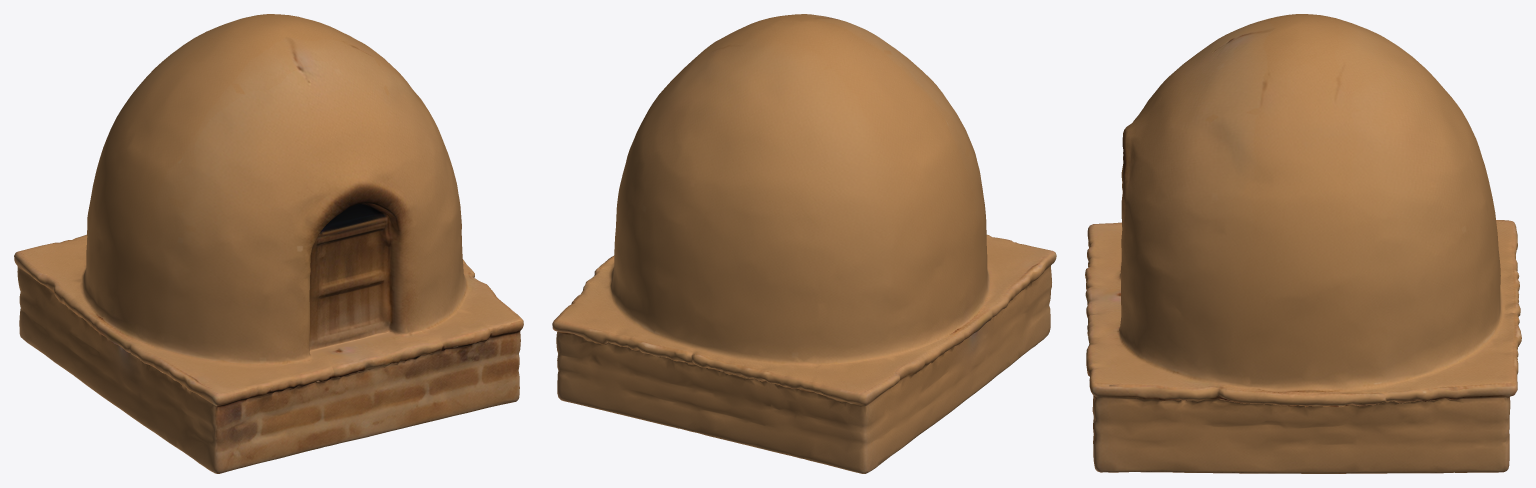
The model's file is horno.glb.
The picture shows the model from 3 angles, left to right: view 1: azimuth 30°, elevation 25°; view 2: azimuth 150°, elevation 25°; view 3: azimuth 270°, elevation 25°; orthographic projection. The views are drawn at different scales.
Visible parts, largest first — view 1: temp_mesh.ply; view 2: temp_mesh.ply; view 3: temp_mesh.ply.
Part boxes in pixels (box(x1,y1,x2,y2)): temp_mesh.ply: box(14, 14, 523, 473); temp_mesh.ply: box(552, 14, 1056, 473); temp_mesh.ply: box(1085, 14, 1521, 473).
Bounding box in the file's own units: 1.9 × 1.8 × 1.93.
1 material, 1 textured.
